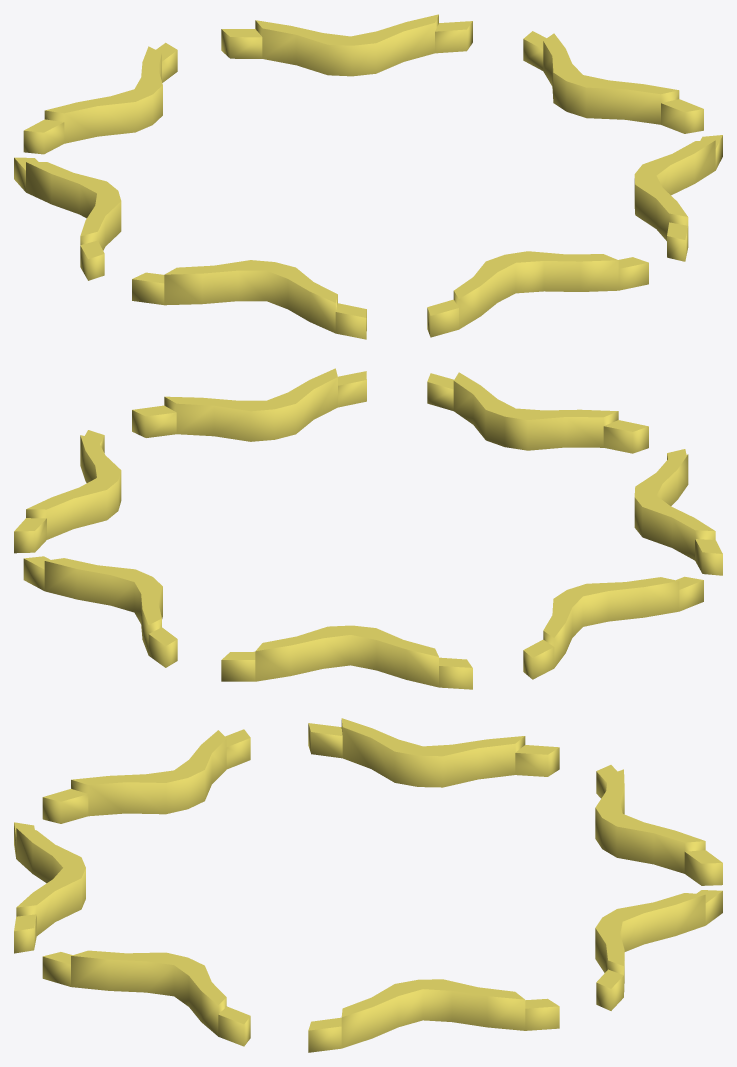
File: ParadiseFloorDivider.fbx
The picture shows the model from 3 angles, top to bottom: view 1: azimuth 30°, elevation 25°; view 2: azimuth 150°, elevation 25°; view 3: azimuth 270°, elevation 25°; orthographic projection. The views are drawn at different scales.
Parts seen in each view (by area): view 1: Dividers; view 2: Dividers; view 3: Dividers.
Part boxes in pixels (box(x1,y1,x2,y2)): Dividers: box(14, 14, 722, 339); Dividers: box(14, 368, 722, 689); Dividers: box(14, 718, 722, 1052).
Size of the model in its own units: 11359 by 539 by 11062.
